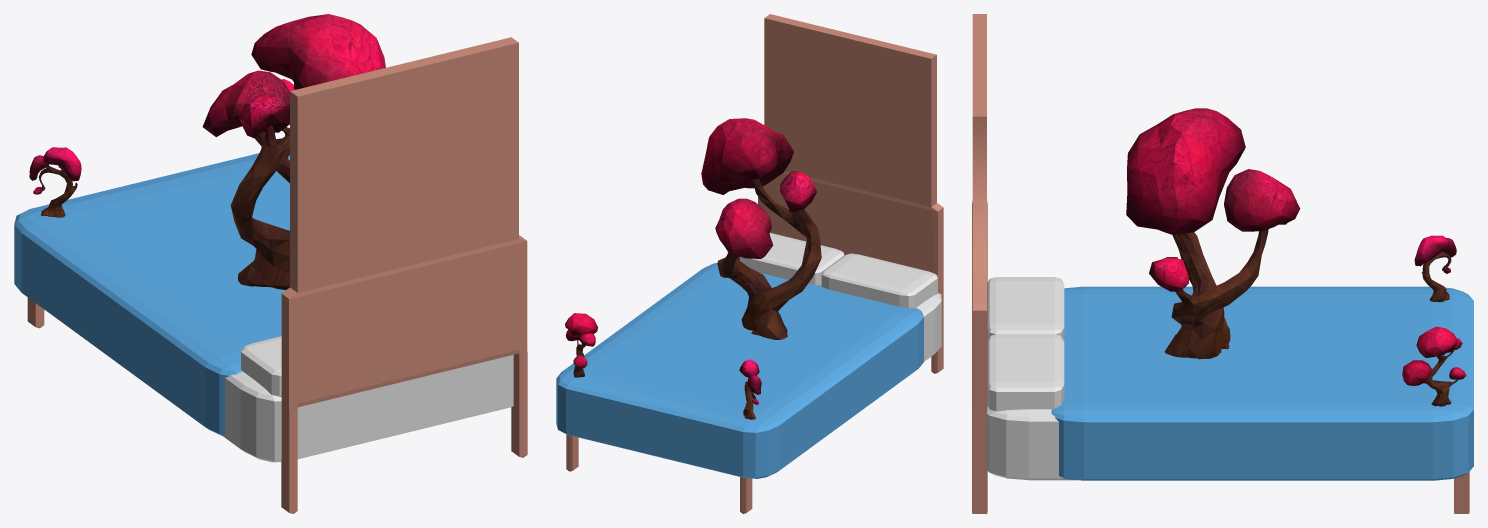
Rendered from cama2.glb.
3 renders of one model, left to right at view 1: azimuth 30°, elevation 25°; view 2: azimuth 150°, elevation 25°; view 3: azimuth 270°, elevation 25°, orthographic. The views are drawn at different scales.
Parts seen in each view (by area): view 1: Cube.001, tree-normal-3, tree-normal-2; view 2: Cube.001, tree-normal-3, tree-normal-1, tree-normal-2; view 3: Cube.001, tree-normal-3, tree-normal-1, tree-normal-2.
Boxes of the visible parts, box(x1,y1,x2,y2) form: Cube.001: box(14, 37, 527, 513); tree-normal-3: box(202, 14, 385, 289); tree-normal-2: box(29, 147, 81, 217); Cube.001: box(556, 14, 943, 513); tree-normal-3: box(701, 118, 821, 339); tree-normal-1: box(565, 313, 597, 377); tree-normal-2: box(739, 359, 761, 419); Cube.001: box(972, 14, 1473, 513); tree-normal-3: box(1126, 108, 1300, 359); tree-normal-1: box(1402, 326, 1466, 406); tree-normal-2: box(1414, 235, 1456, 302).
Size of what is drawn, in the model's own units: 8.19 by 11.26 by 12.96.
Materials: 7 (3 with a texture image).
